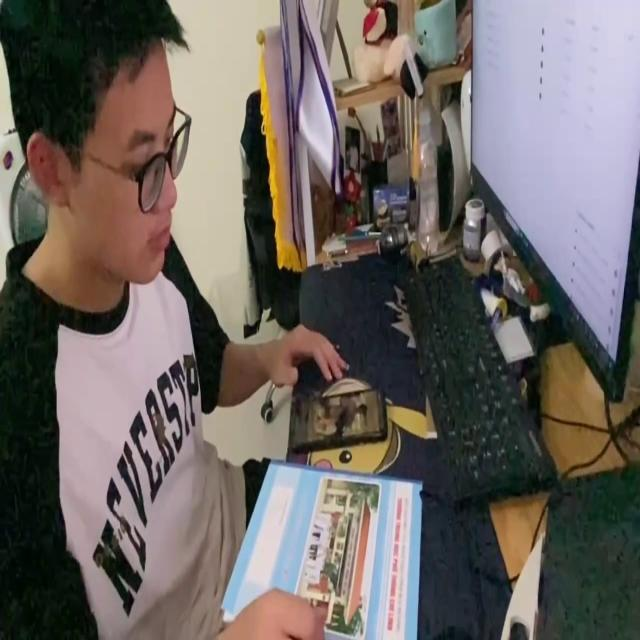book: (226, 459, 424, 640)
laptop: (468, 0, 640, 407)
phone: (287, 380, 388, 452)
student: (0, 0, 347, 640)
